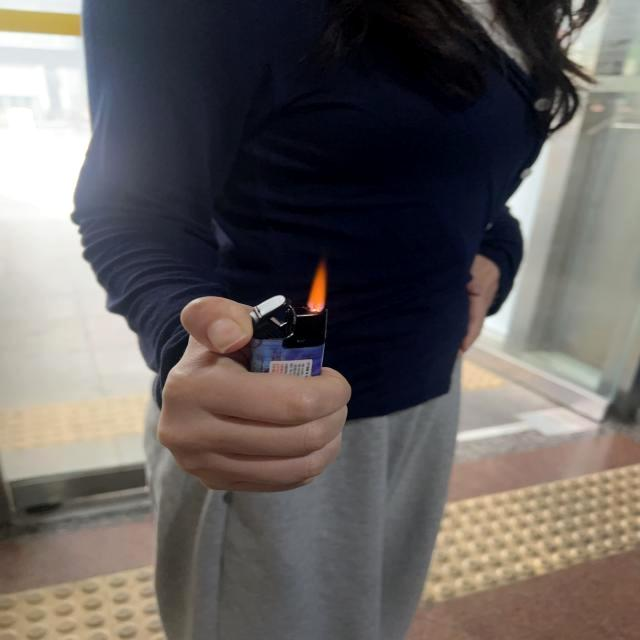fire: (307, 265, 329, 313)
